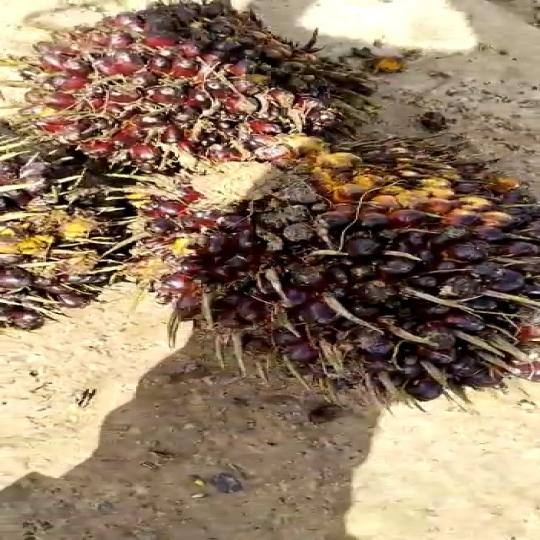kurang masak: (124, 156, 540, 409), (38, 18, 389, 172), (0, 134, 195, 324)
